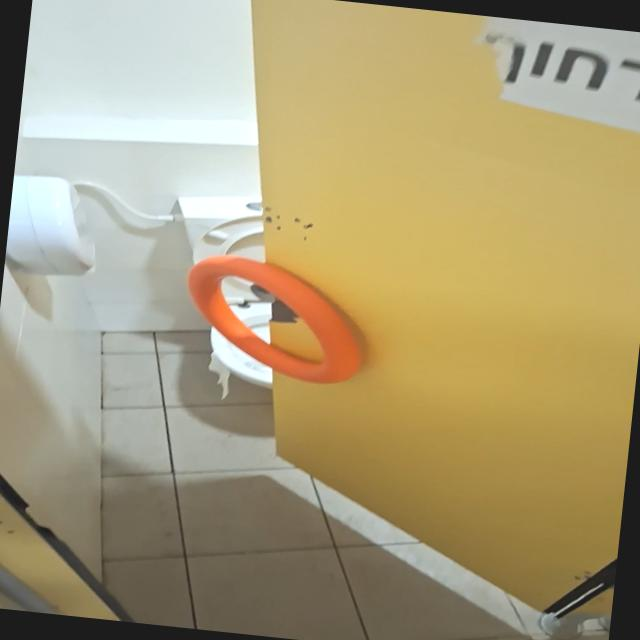note: (175, 248, 372, 388)
